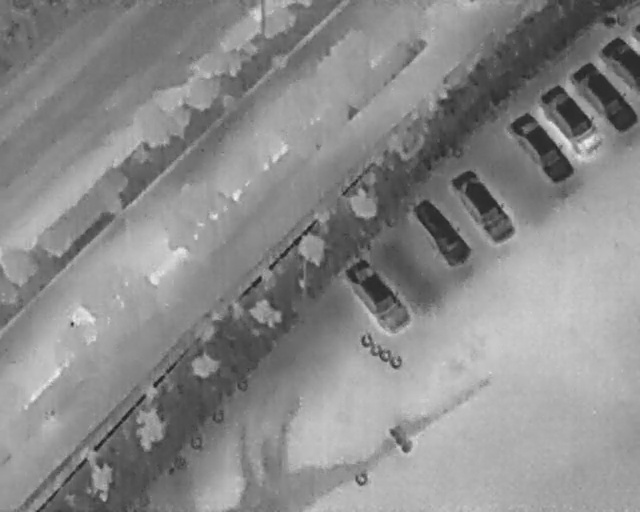Car: (529, 77, 614, 165), (336, 252, 419, 341), (445, 163, 524, 252), (503, 105, 581, 193), (405, 191, 478, 275), (566, 59, 639, 135), (596, 37, 639, 90)
